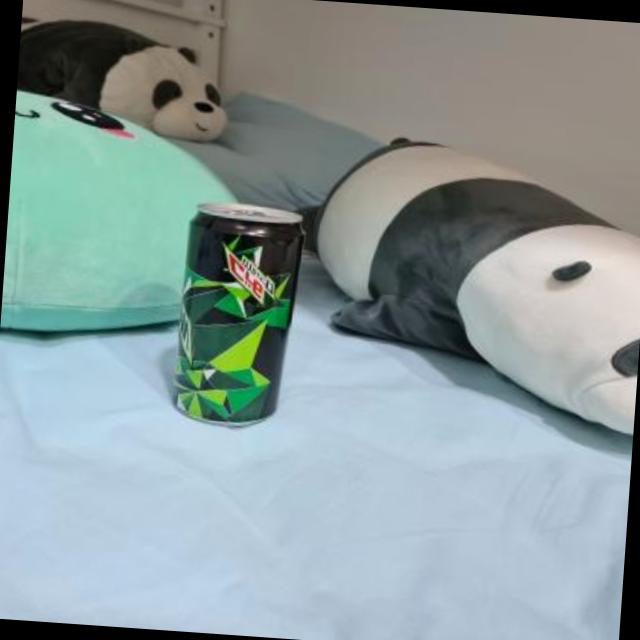metal: (175, 200, 303, 420)
